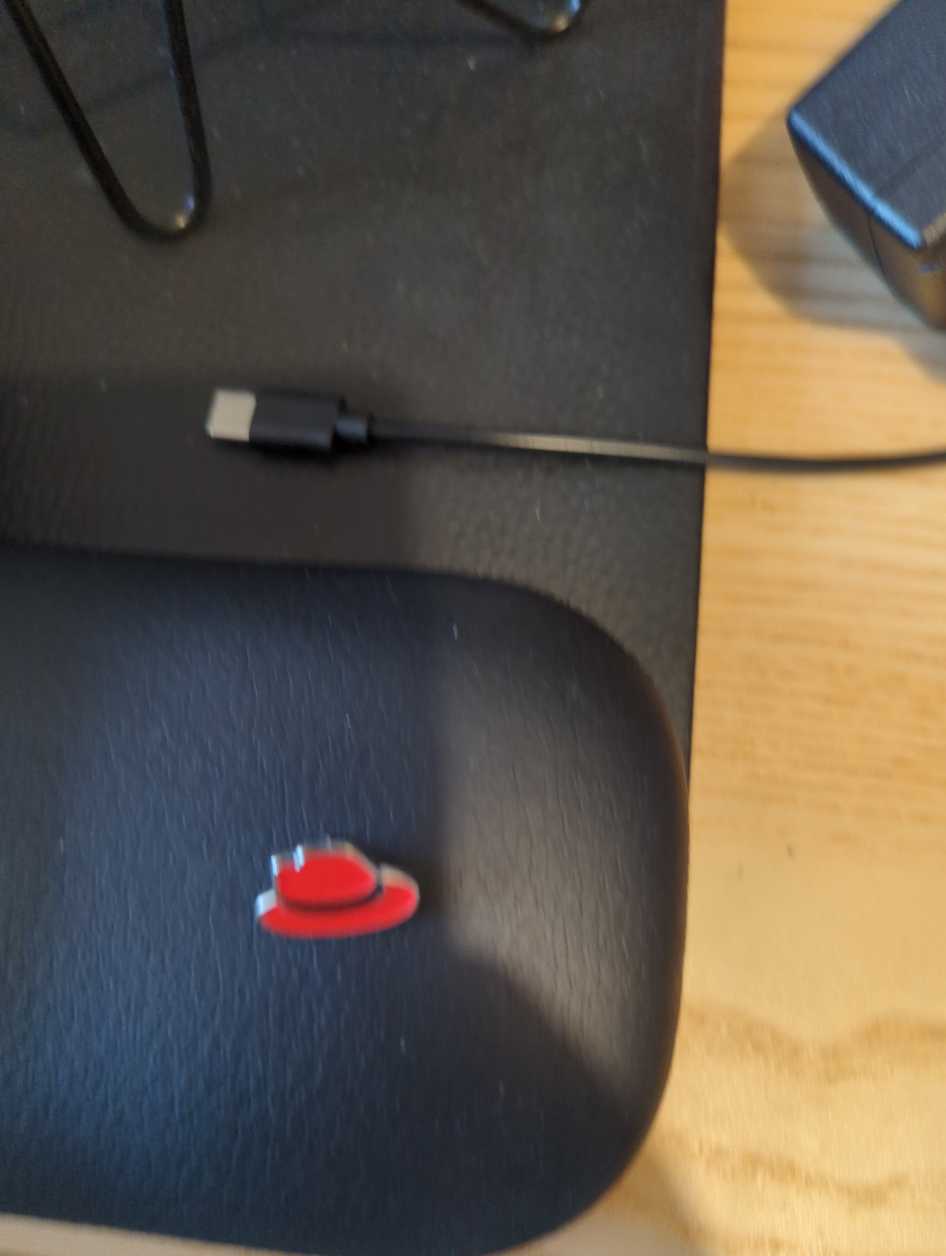Red-Hat: (209, 796, 520, 1010)
